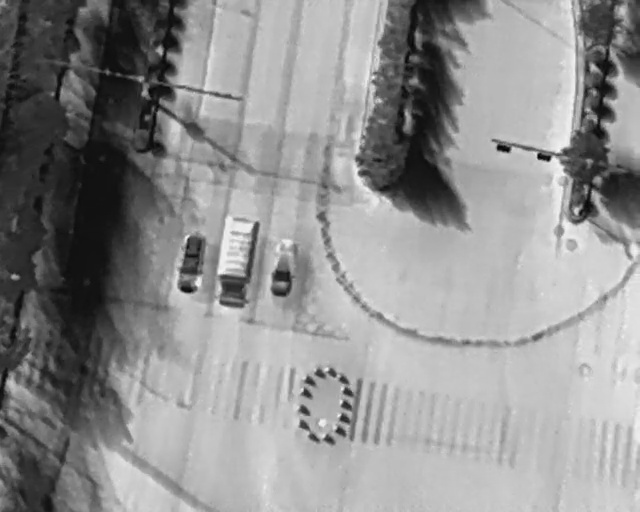Car: (173, 229, 208, 296), (266, 237, 300, 296)
OtherVehicle: (212, 214, 261, 310)
